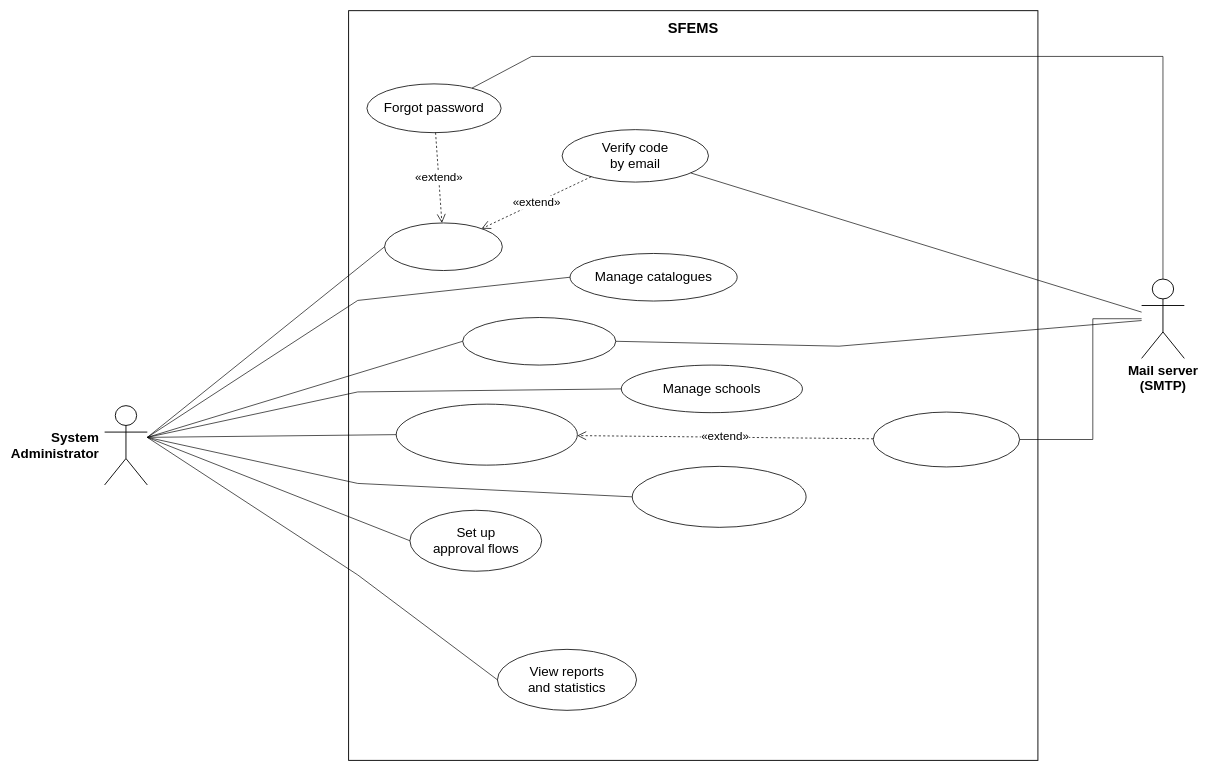
The diagram is 1208 pixels wide and 772 high, and some of its shapes have lost their labels. The box of each missing label's shape, as (x1, y1, x2, y2) in pixels:
Look up equipment and facilities: (632, 466, 806, 527)
Manage accounts and permissions: (396, 403, 577, 465)
Receive notifications: (462, 317, 616, 365)
Send password setup invitation: (873, 411, 1020, 467)
Sign in: (384, 222, 502, 271)
